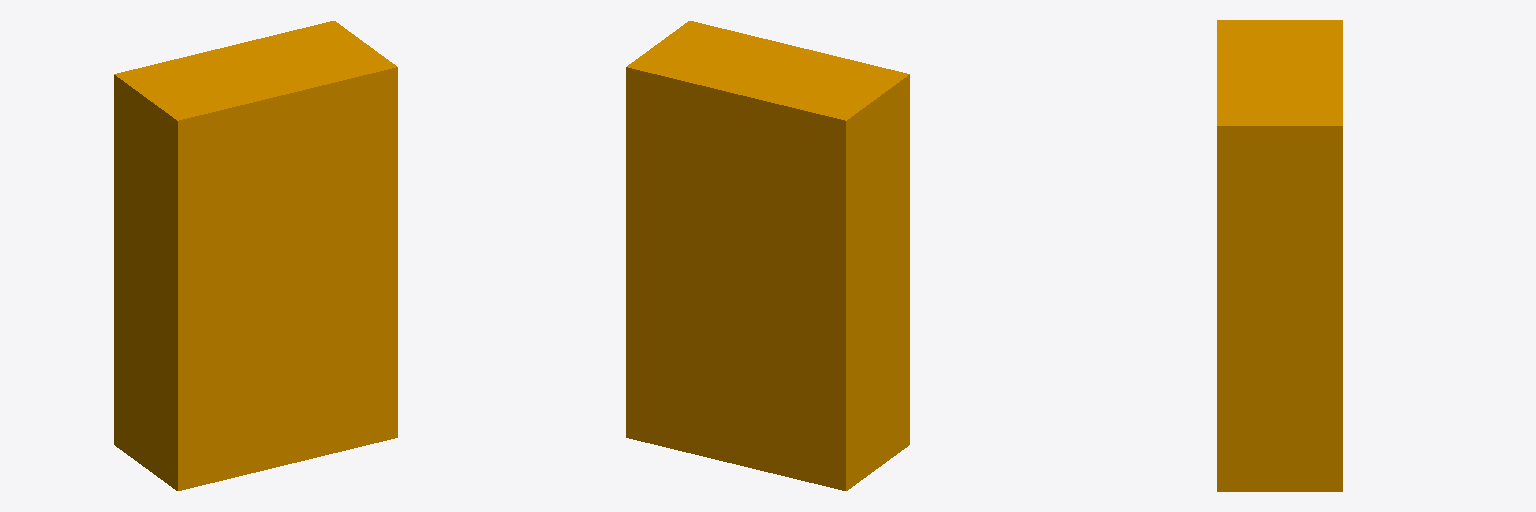
The robot description file, URDF, robot "jasmine_tea_box":
<?xml version="1.0"?>
<robot
  name="jasmine_tea_box">
  <link name="box">
    <visual>
      <geometry>
        <box size="0.14 0.07 0.225"/>
      </geometry>
    </visual>
    <collision>
      <geometry>
        <box size="0.14 0.07 0.225"/>
      </geometry>
      <origin xyz="0 0 0"/>
    </collision>
    <inertial>
      <mass value="0.5"/>
      <inertia ixx="0.01" ixy="0.0" ixz="0.0" iyy="0.01" iyz="0.0" izz="0.01"/>
      <origin xyz="0 0 0"/>
    </inertial>
  </link>
</robot>

--- Facts derived from the render (not from the file) ---
3 views of the same robot in one strip: view 1: azimuth 30°, elevation 25°; view 2: azimuth 150°, elevation 25°; view 3: azimuth 270°, elevation 25° (orthographic).
Model jasmine_tea_box with 1 links and 0 joints (none), rooted at box, posed all joints at 0.
Visible links, largest first — view 1: box; view 2: box; view 3: box.
Boxes of the visible links, x1,y1,x2,y2 form: box: [114, 21, 397, 490]; box: [626, 21, 909, 490]; box: [1217, 20, 1342, 491].
Size in the robot's own frame: 0.14 by 0.07 by 0.225 metres.
Geometry: primitives only (box / cylinder / sphere), no mesh files.